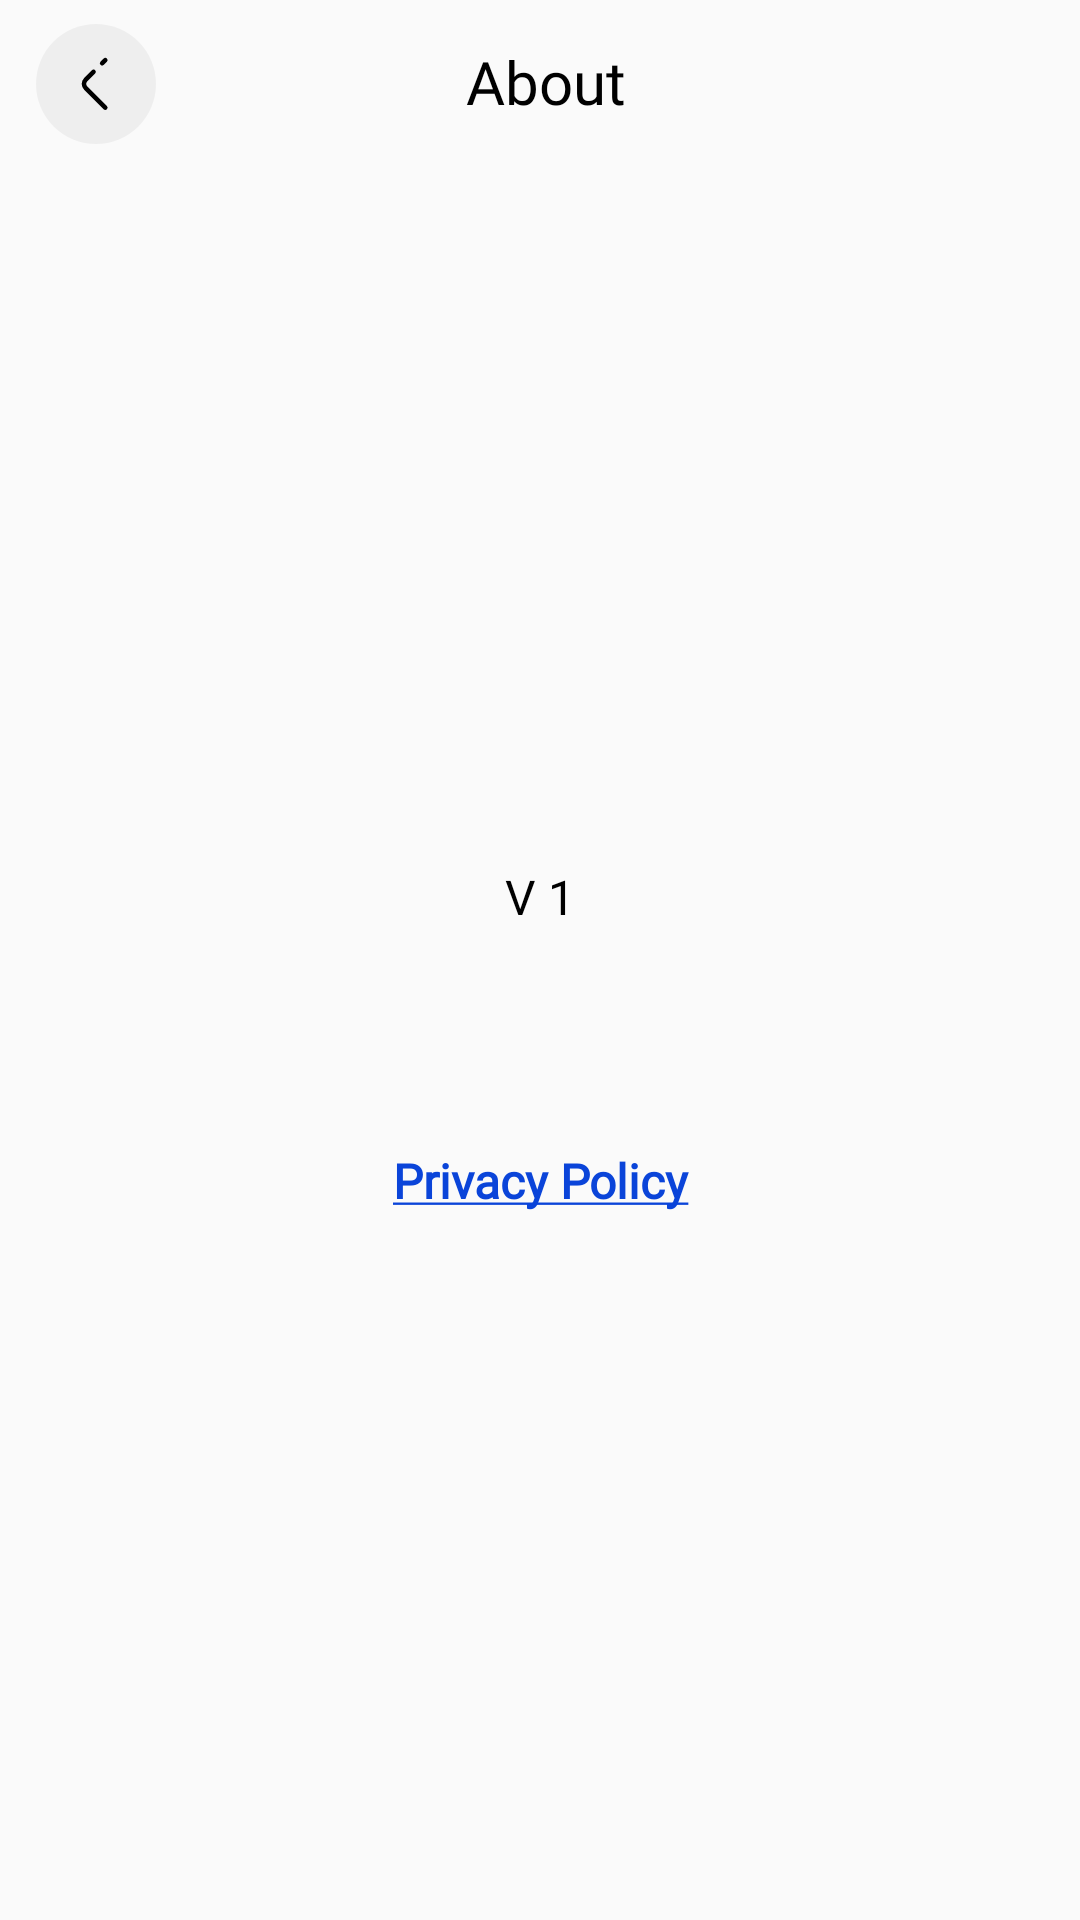

Named icons in this screenshot (1080*1920) and their bounding boxes, (x1, y1, x2, y2):
back: (36, 24, 156, 144)
